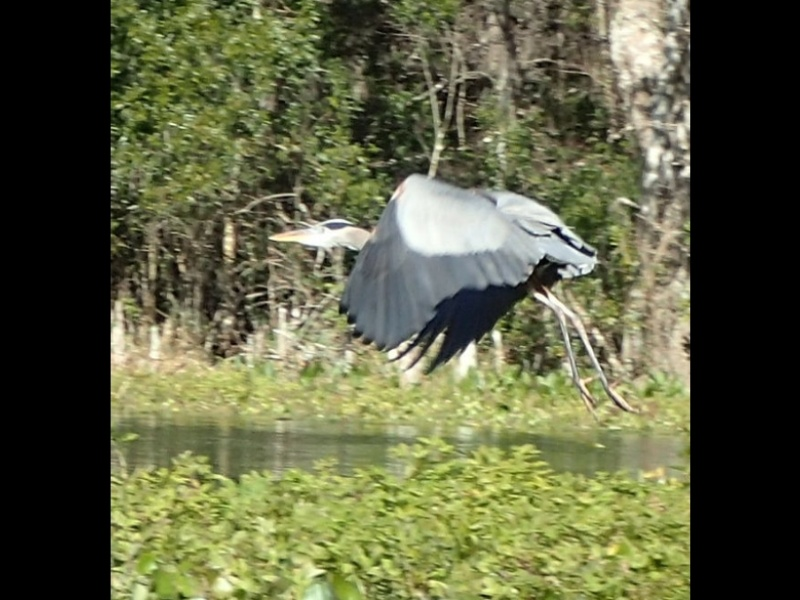heron: (270, 182, 604, 371)
